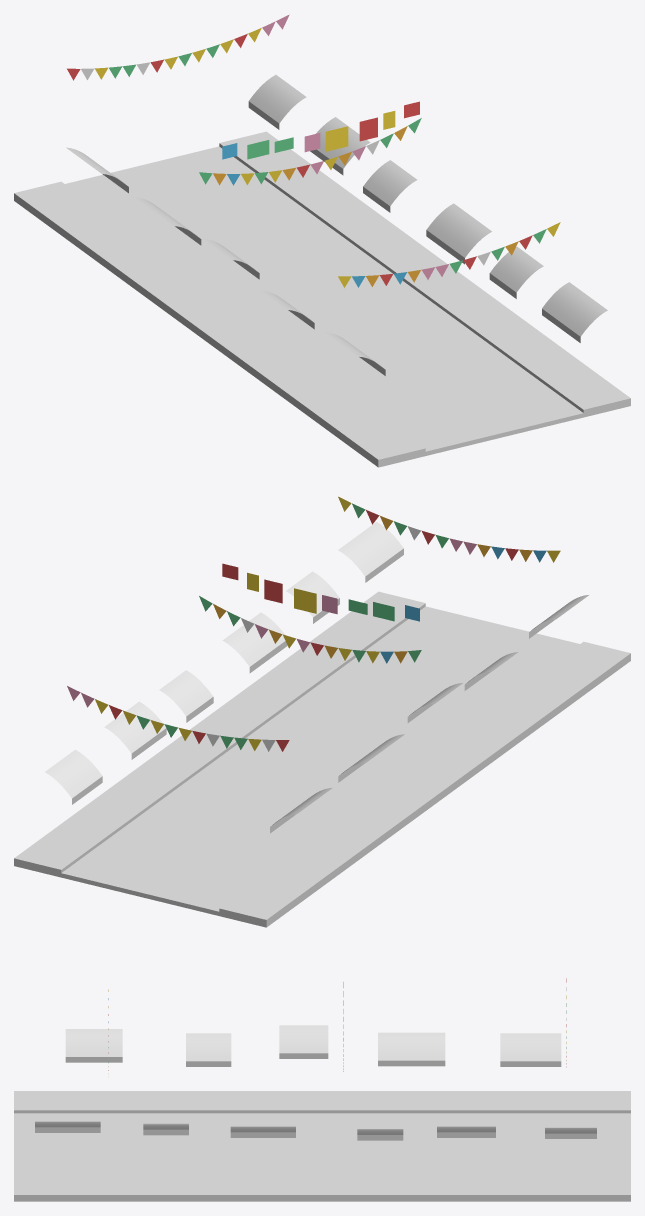
The model's file is Harita_08_Mahalle_Simitci_Sokagi_Ozel.fbx.
3 renders of one model, top to bottom at view 1: azimuth 30°, elevation 25°; view 2: azimuth 150°, elevation 25°; view 3: azimuth 270°, elevation 25°, orthographic. The views are drawn at different scales.
Visible parts, largest first — view 1: Harita_08_Yol.001, Harita_08_Kaldirim_L.001, Harita_08_Kaldirim_R.001, Camasirlar.010, Tente.154, Tente.156, Tente.159, Bayraklar.040, Bayraklar.039, Bayraklar.038, Tente.157, Tente.155 (+1 smaller); view 2: Harita_08_Yol.001, Harita_08_Kaldirim_L.001, Harita_08_Kaldirim_R.001, Camasirlar.010, Tente.154, Tente.156, Tente.158, Tente.159, Bayraklar.039, Bayraklar.038, Bayraklar.040, Tente.157 (+1 smaller); view 3: Harita_08_Yol.001, Harita_08_Kaldirim_R.001, Harita_08_Kaldirim_L.001, Tente.152, Tente.153, Tente.149, Tente.151, Tente.150, Tente.154, Tente.156, Tente.158, Tente.159 (+2 smaller).
Part boxes in pixels (x1,y1,x2,y2): Harita_08_Yol.001: [65, 146, 583, 455]; Harita_08_Kaldirim_L.001: [14, 181, 425, 467]; Harita_08_Kaldirim_R.001: [219, 131, 630, 417]; Camasirlar.010: [222, 101, 419, 159]; Tente.154: [542, 282, 607, 342]; Tente.156: [426, 203, 491, 264]; Tente.159: [248, 75, 306, 129]; Bayraklar.040: [67, 14, 289, 80]; Bayraklar.039: [199, 118, 421, 185]; Bayraklar.038: [338, 222, 560, 287]; Tente.157: [363, 160, 417, 212]; Tente.155: [489, 246, 543, 298]; Harita_08_Yol.001: [61, 606, 579, 915]; Harita_08_Kaldirim_L.001: [219, 641, 630, 927]; Harita_08_Kaldirim_R.001: [14, 591, 425, 877]; Camasirlar.010: [222, 563, 419, 621]; Tente.154: [338, 522, 403, 582]; Tente.156: [222, 612, 287, 673]; Tente.158: [104, 701, 166, 759]; Tente.159: [45, 749, 102, 804]; Bayraklar.039: [199, 596, 421, 663]; Bayraklar.038: [338, 496, 560, 562]; Bayraklar.040: [67, 686, 289, 751]; Tente.157: [159, 670, 213, 722]; Harita_08_Yol.001: [14, 1113, 630, 1175]; Harita_08_Kaldirim_R.001: [14, 1175, 630, 1201]; Harita_08_Kaldirim_L.001: [14, 1091, 630, 1113]; Tente.152: [378, 1032, 445, 1066]; Tente.153: [500, 1033, 561, 1066]; Tente.149: [65, 1029, 122, 1062]; Tente.151: [279, 1025, 328, 1058]; Tente.150: [186, 1033, 231, 1066]; Tente.154: [35, 1121, 100, 1132]; Tente.156: [230, 1126, 295, 1137]; Tente.158: [437, 1126, 495, 1137]; Tente.159: [545, 1127, 596, 1138].
Bounding box in the file's own units: 12 × 8.17 × 30.
